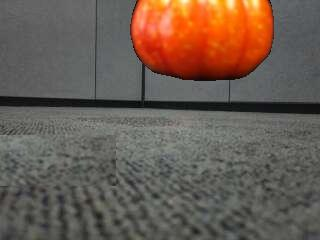Pumpkin: (129, 0, 276, 83)
